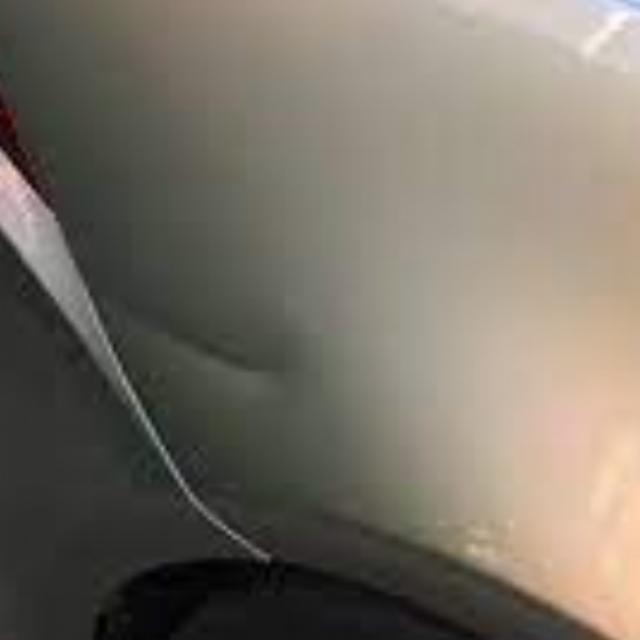dents: (114, 298, 294, 394)
